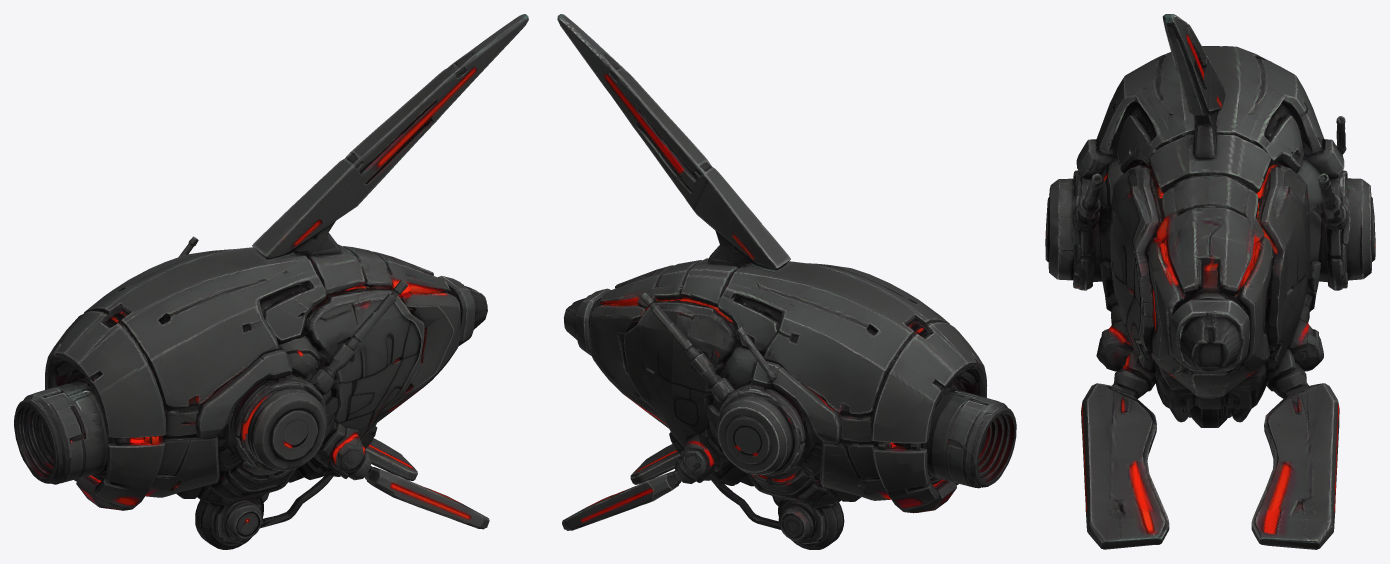
Rendered from surveillance_drone.glb.
3 renders of one model, left to right at view 1: azimuth 30°, elevation 25°; view 2: azimuth 150°, elevation 25°; view 3: azimuth 270°, elevation 25°, orthographic. The views are drawn at different scales.
Size of the model in its own units: 1.9 by 1.82 by 0.9448.
1 material, 1 textured.
